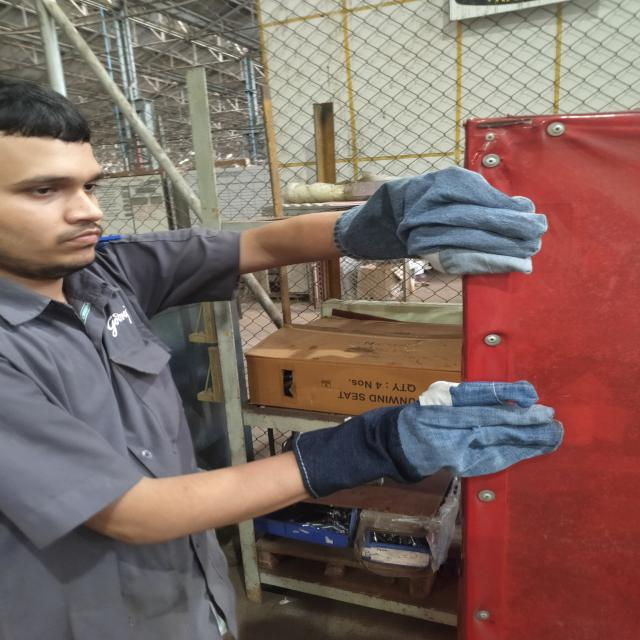Gloves-Detection: (286, 379, 571, 480), (340, 182, 556, 278)
